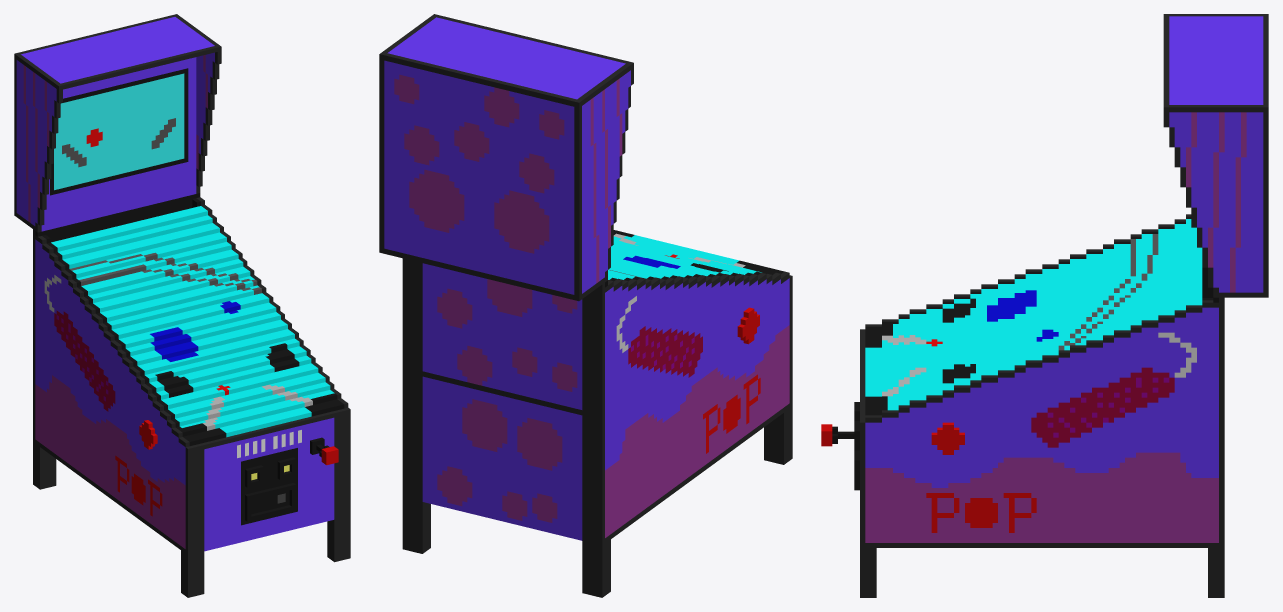
Rendered from pinball.obj.
The picture shows the model from 3 angles, left to right: view 1: azimuth 30°, elevation 25°; view 2: azimuth 150°, elevation 25°; view 3: azimuth 270°, elevation 25°; orthographic projection. The views are drawn at different scales.
Bounding box in the file's own units: 4.2 × 9.8 × 8.1.
Materials: 1 (1 with a texture image).
